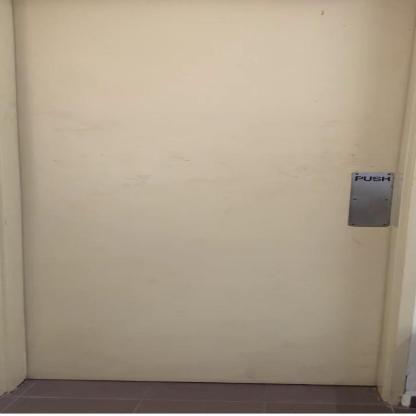door: (0, 0, 413, 394)
